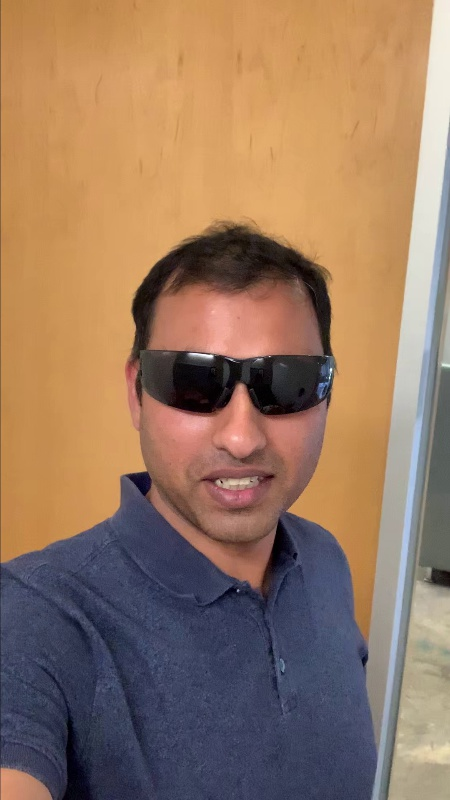glasses: (122, 339, 350, 423)
